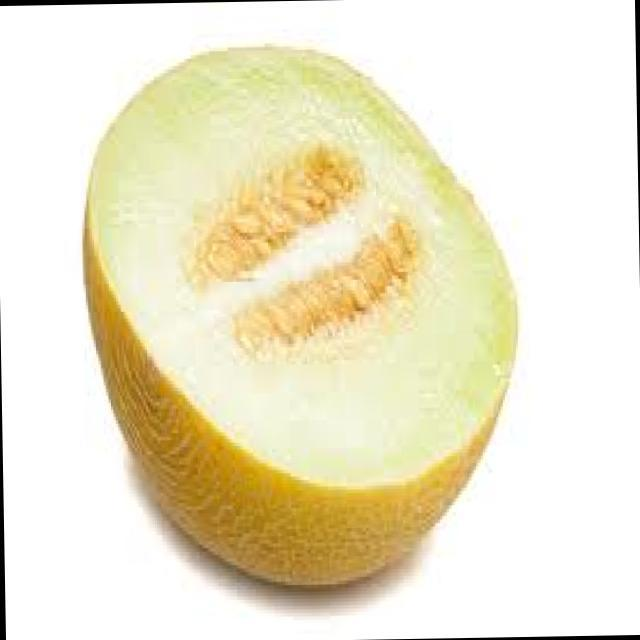Melon: (62, 28, 529, 610)
